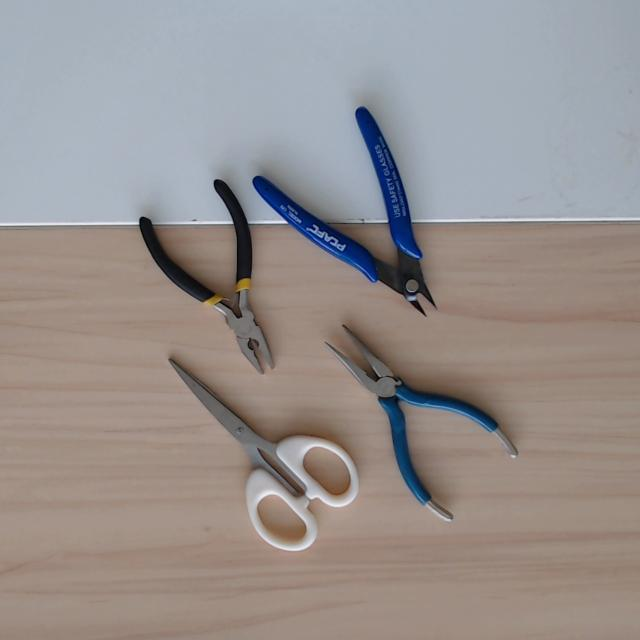Gunting: (167, 305, 379, 567)
Tang-Jepit-Biru: (291, 295, 524, 529)
Tang-Jepit-Hitam: (133, 174, 305, 398)
Tang-Potong-Biru: (249, 104, 482, 356)
